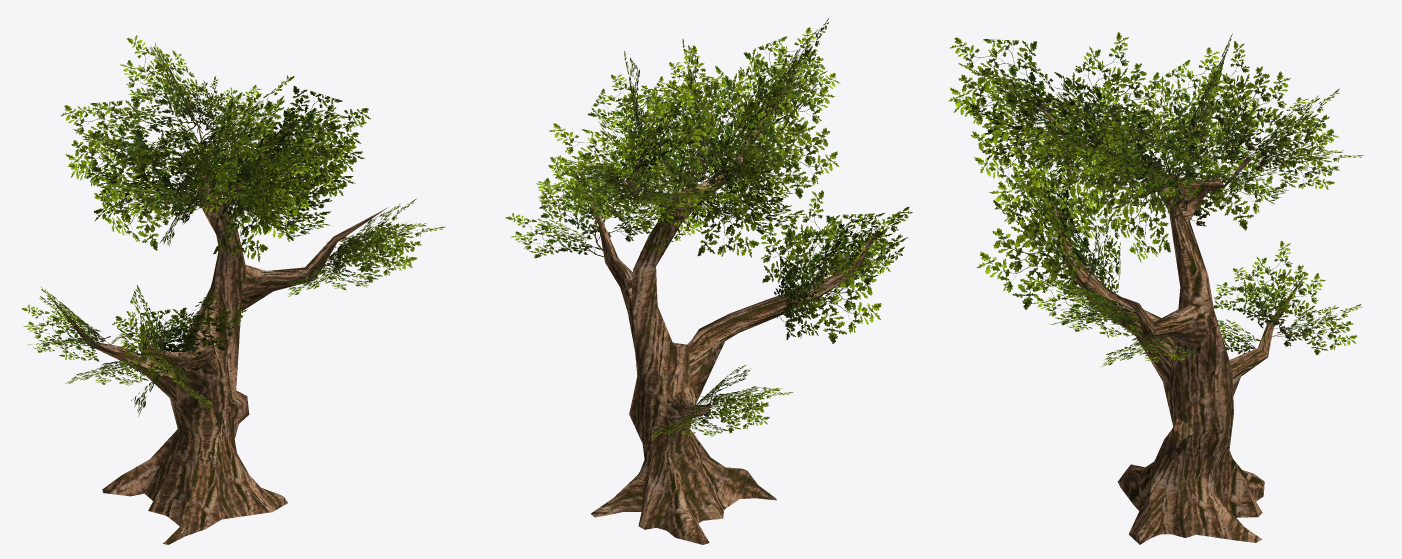
The model's file is Fantasy_Tree1_lod1.fbx.
The picture shows the model from 3 angles, left to right: view 1: azimuth 30°, elevation 25°; view 2: azimuth 150°, elevation 25°; view 3: azimuth 270°, elevation 25°; orthographic projection. The views are drawn at different scales.
Parts seen in each view (by area): view 1: Mesh Object; view 2: Mesh Object; view 3: Mesh Object.
Part boxes in pixels (box(x1,y1,x2,y2)): Mesh Object: box(21, 35, 445, 544); Mesh Object: box(505, 17, 912, 544); Mesh Object: box(948, 32, 1364, 544).
Bounding box in the file's own units: 3.52 × 4.2 × 3.49.
